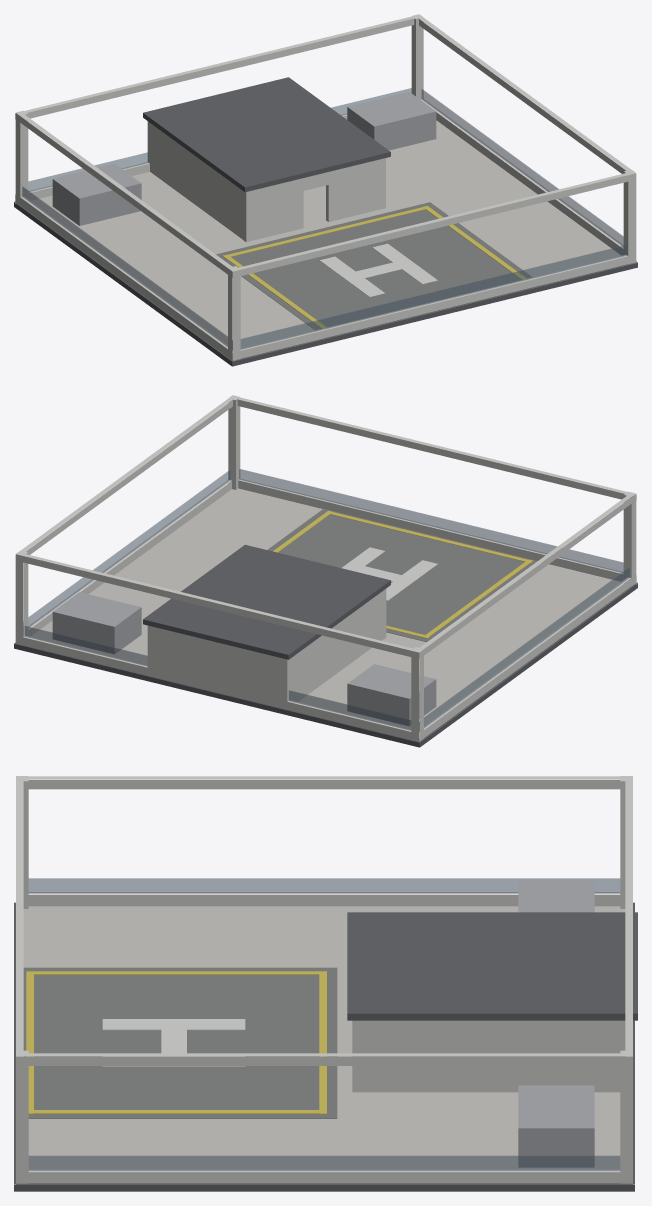
The model's file is condo-roof-a.glass-v2.lod1.glb.
3 views of the same model, one above another, from view 1: azimuth 30°, elevation 25°; view 2: azimuth 150°, elevation 25°; view 3: azimuth 270°, elevation 25° (orthographic). The views are drawn at different scales.
Parts seen in each view (by area): view 1: condo-roof-a; view 2: condo-roof-a; view 3: condo-roof-a.
Boxes of the visible parts, x1,y1,x2,y2 form: condo-roof-a: (14,14,637,366); condo-roof-a: (14,395,637,747); condo-roof-a: (14,776,637,1191).
Size of the model in its own units: 26.16 by 5.84 by 24.48.
